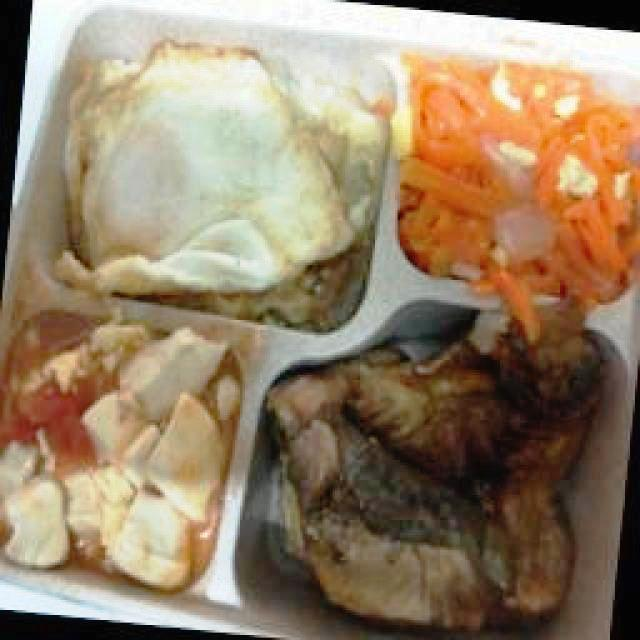carrot_eggs: (395, 47, 637, 337)
fried_eggs: (55, 35, 388, 329)
